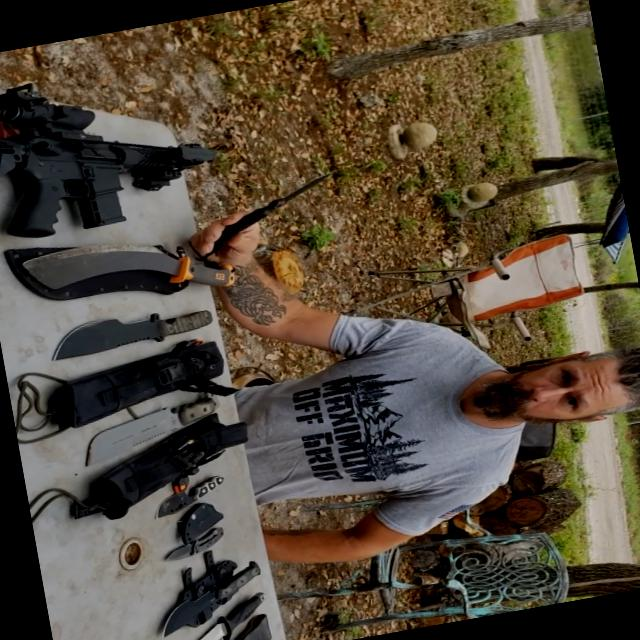knife: (22, 208, 252, 331), (28, 280, 236, 368), (126, 548, 300, 639), (64, 388, 229, 472), (212, 164, 364, 243), (140, 588, 292, 639), (138, 463, 242, 526), (144, 526, 238, 568)
long weapon: (0, 35, 278, 257)
